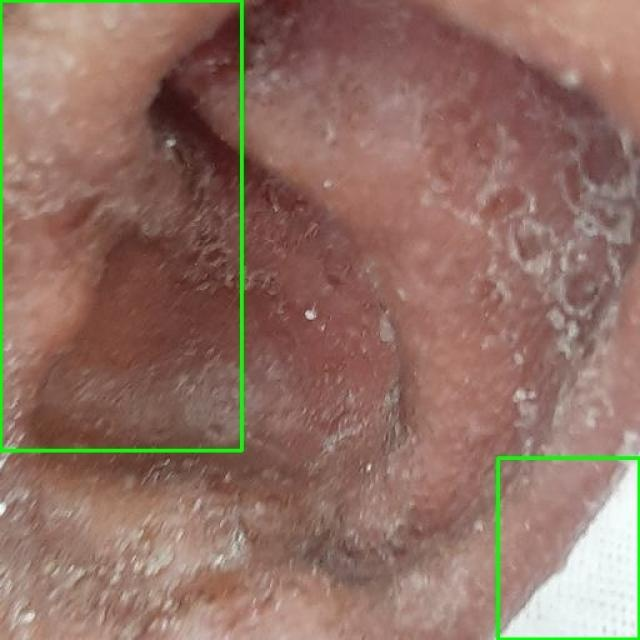Eczema: (0, 0, 241, 450), (498, 458, 639, 639)
